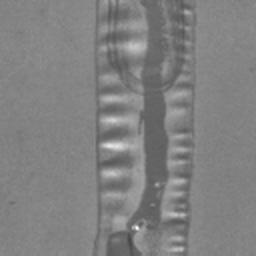Slag inclusion: (92, 0, 196, 256)
